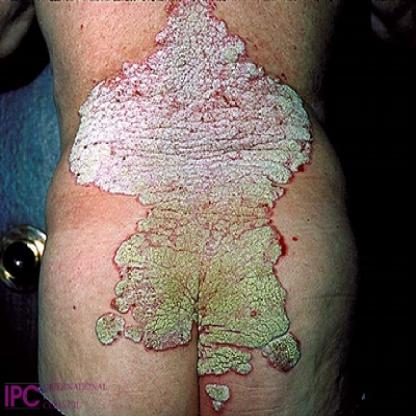Psoriasis: (72, 5, 304, 379), (204, 380, 234, 416)
